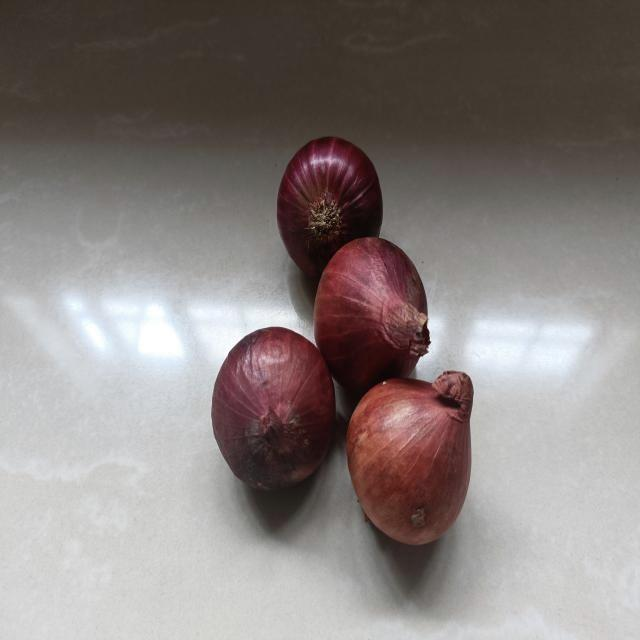onion: (340, 364, 479, 552), (206, 322, 339, 495), (308, 230, 434, 386), (275, 128, 386, 278)
